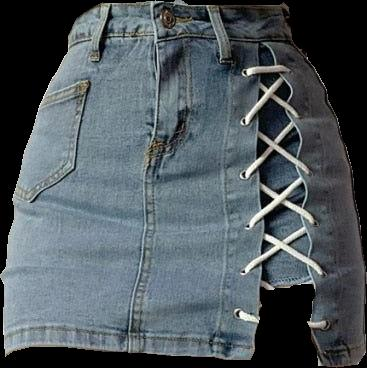Hemline: (4, 41, 366, 367), (257, 282, 316, 291)
Waistline: (74, 1, 283, 21), (65, 35, 293, 50)
